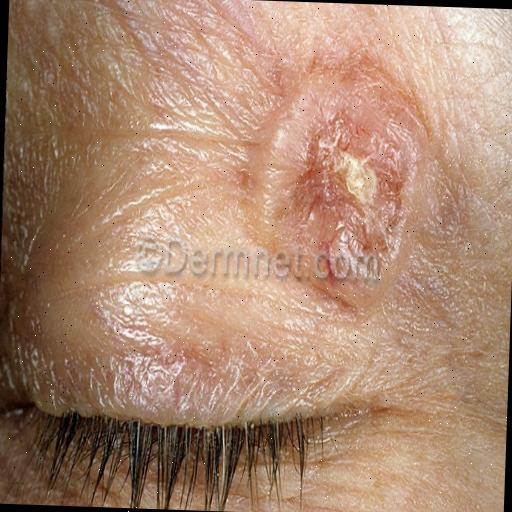Skin_Lesion: (272, 48, 408, 286)
